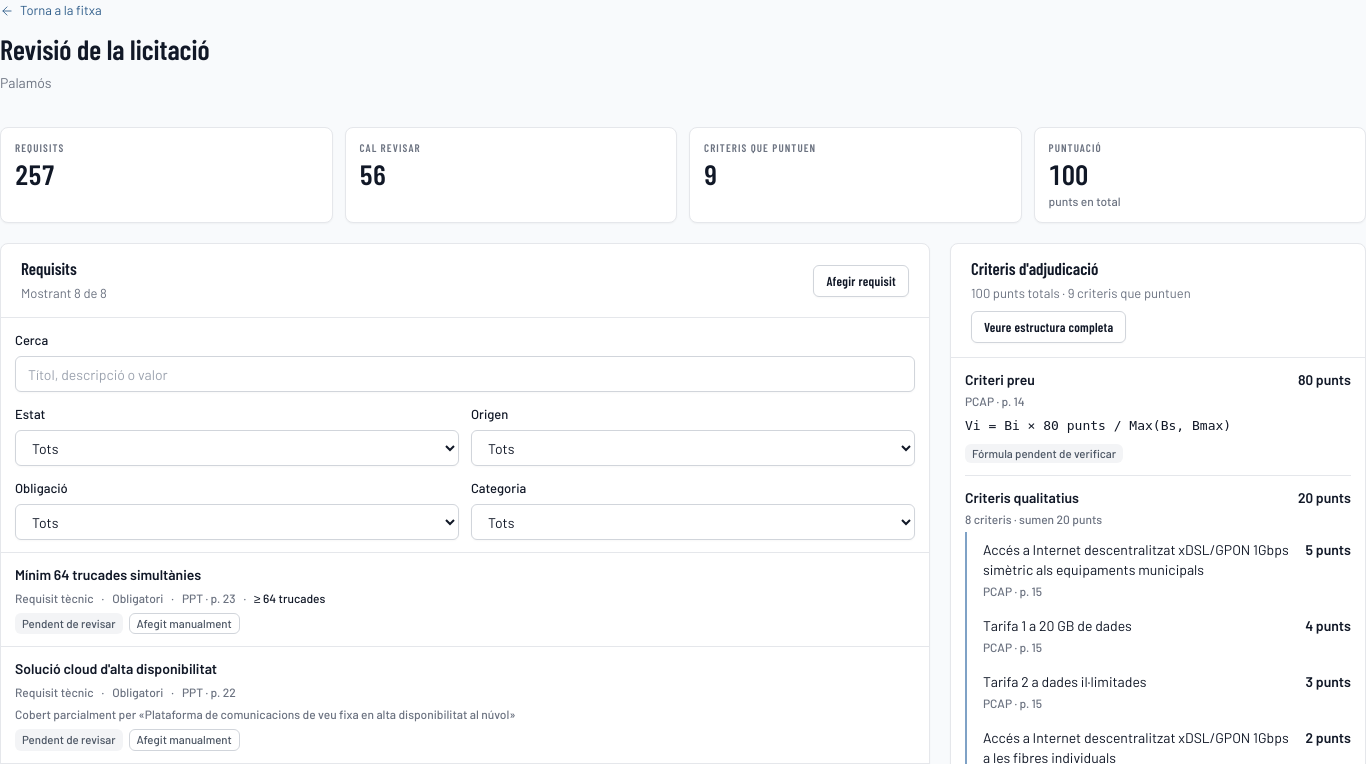
Accions de revisió d'un requisit › confirmar un requisit manual no en canvia l'origen
Step 1. Click the button "Mínim 64 trucades simultànies" → (108, 575), box [1,553,929,646]
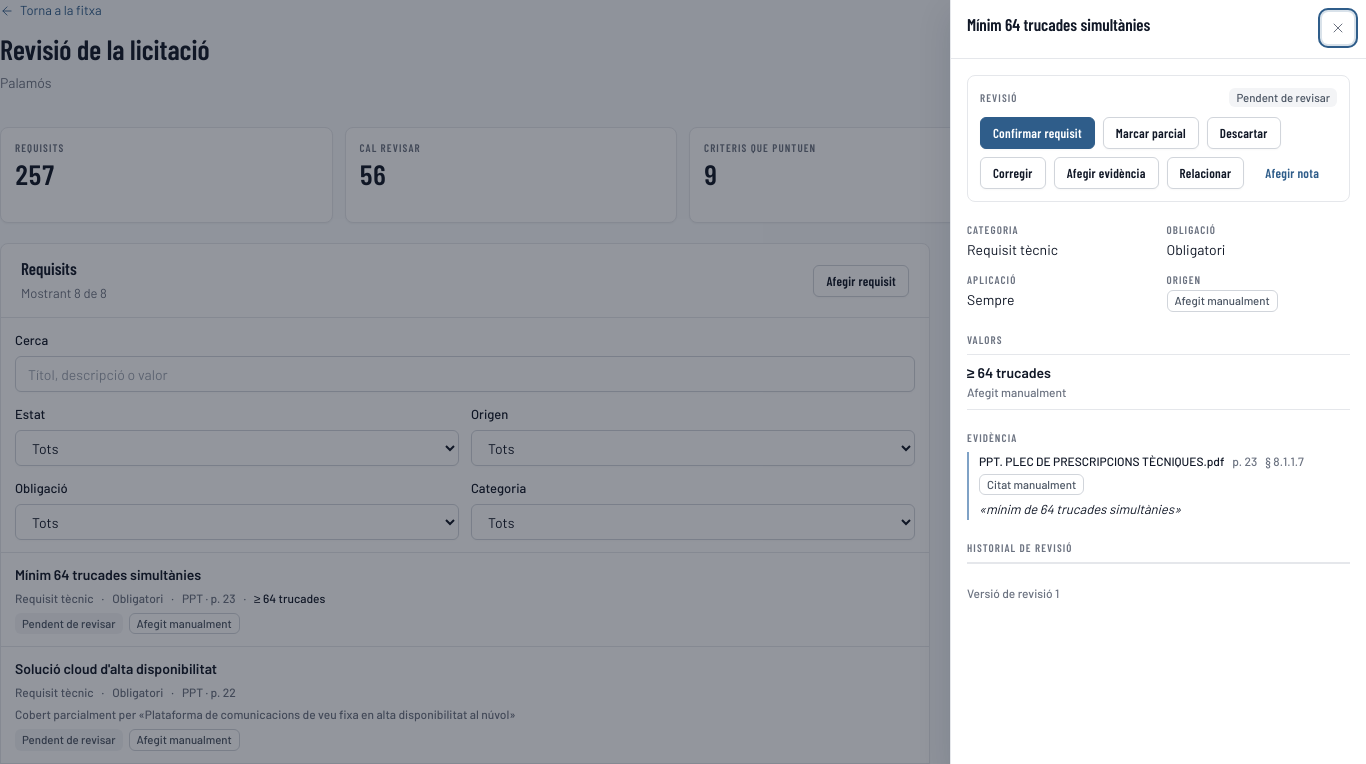
Step 2. Click the button "Confirmar requisit" → (1037, 133), box [980,117,1095,149]
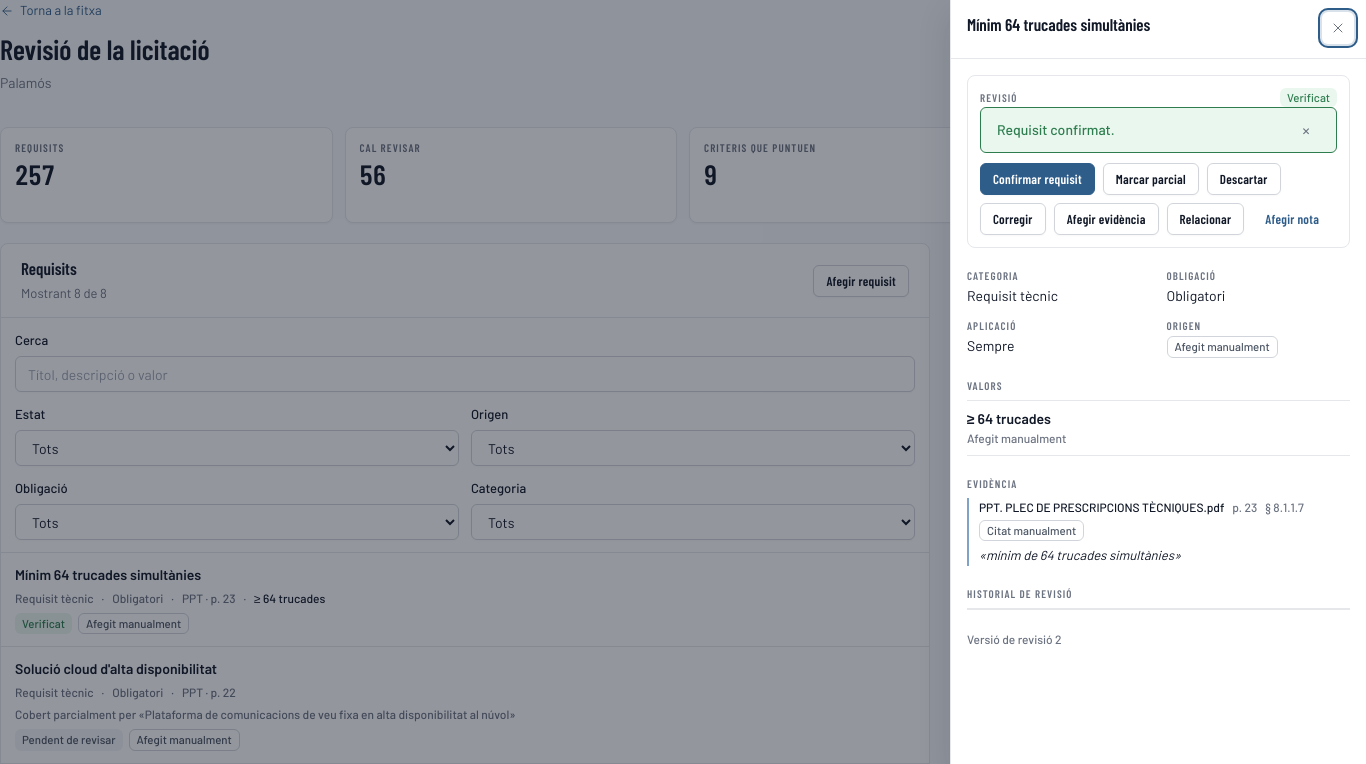
Check: the 2nd text "Afegit manualment" is shown, box [78,613,189,634]
Check: the text "Afegit manualment" next to "Sempre" is shown, box [1174,339,1270,353]
Check: the text "Verificat" is shown, box [15,613,72,634]
